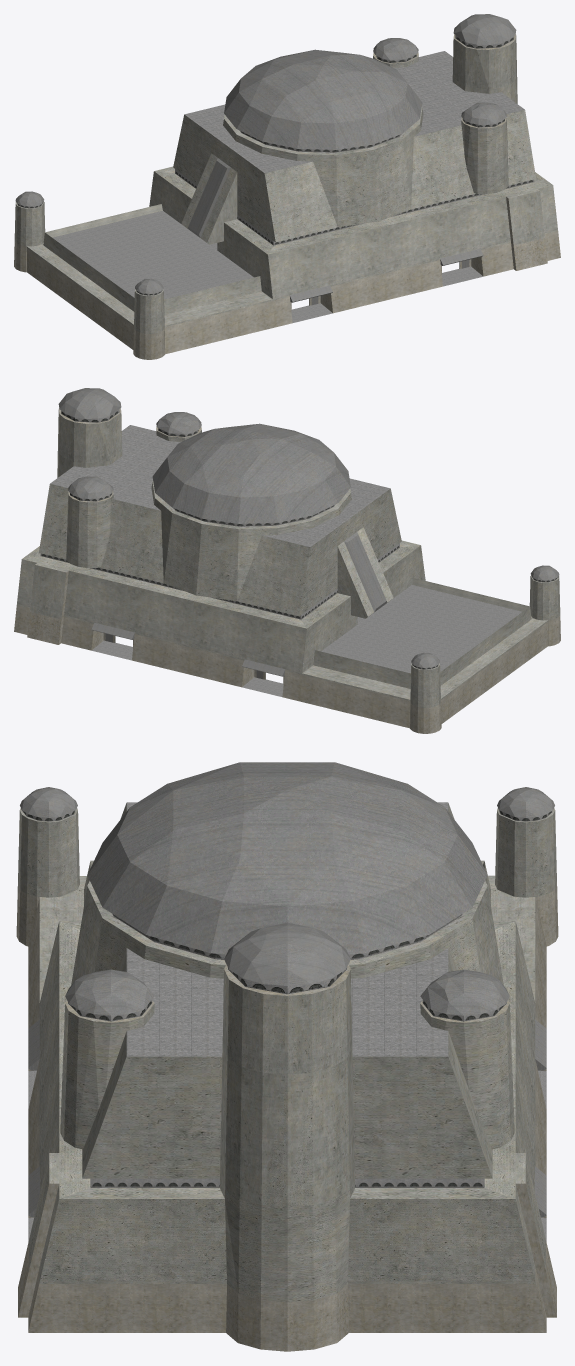
File: mun_all_hospital_s01_r0_mesh_l1.fbx
The picture shows the model from 3 angles, top to bottom: view 1: azimuth 30°, elevation 25°; view 2: azimuth 150°, elevation 25°; view 3: azimuth 270°, elevation 25°; orthographic projection. The views are drawn at different scales.
Parts seen in each view (by area): view 1: mesh_node; view 2: mesh_node; view 3: mesh_node.
Boxes of the visible parts, x1,y1,x2,y2 form: mesh_node: (14, 14, 560, 359); mesh_node: (14, 388, 560, 733); mesh_node: (16, 762, 558, 1351).
Bounding box in the file's own units: 97.9 × 41.44 × 52.24.
